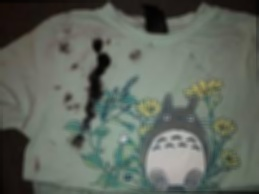ink: (87, 77, 101, 118), (93, 53, 112, 76), (91, 37, 104, 53), (63, 93, 74, 110), (70, 136, 84, 149), (58, 42, 72, 53), (129, 51, 142, 61), (70, 62, 81, 71)
